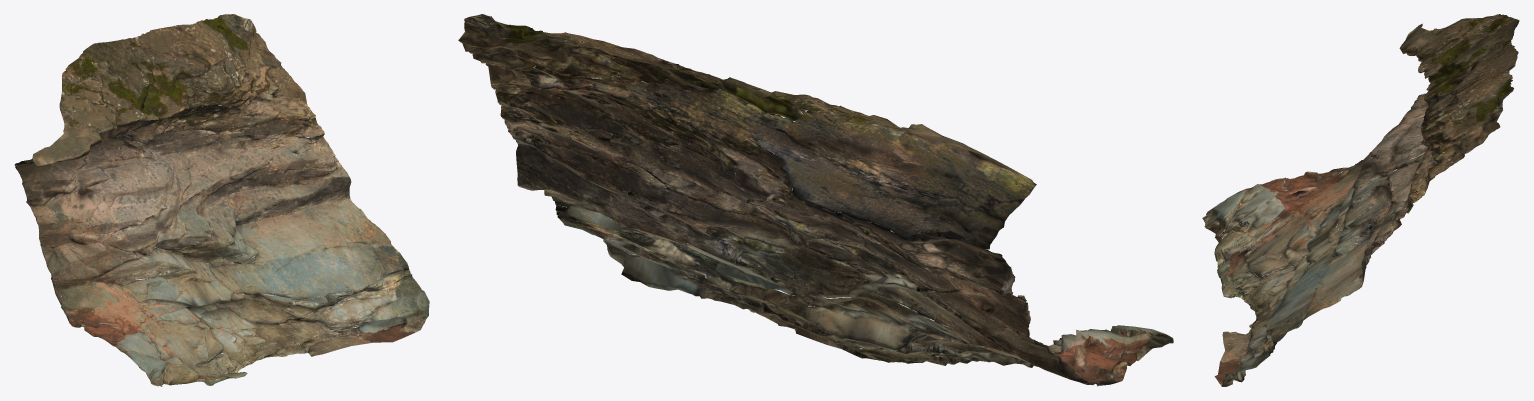
File: rock_face_01.glb
3 renders of one model, left to right at view 1: azimuth 30°, elevation 25°; view 2: azimuth 150°, elevation 25°; view 3: azimuth 270°, elevation 25°, orthographic. The views are drawn at different scales.
Parts seen in each view (by area): view 1: rock_face_01; view 2: rock_face_01; view 3: rock_face_01.
Boxes of the visible parts, x1,y1,x2,y2 form: rock_face_01: (14, 14, 429, 386); rock_face_01: (458, 14, 1173, 386); rock_face_01: (1202, 14, 1519, 386).
Bounding box in the file's own units: 6 × 4.32 × 4.63.
1 material, 1 textured.
